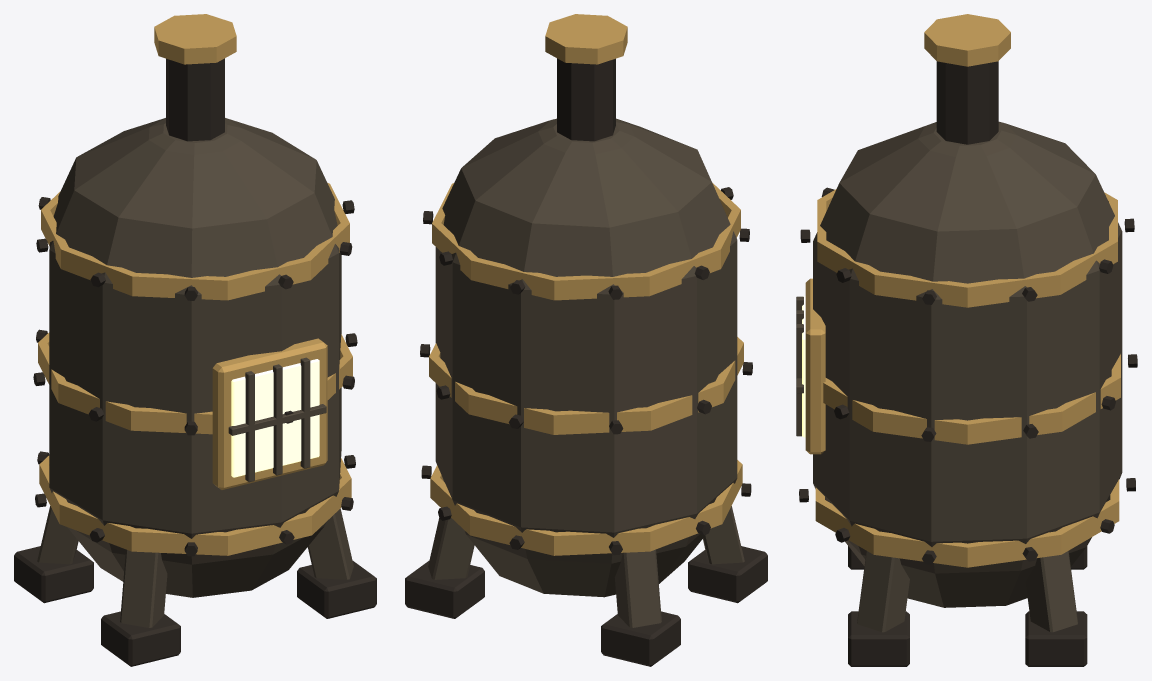
Rendered from reaction_vessel.glb.
The picture shows the model from 3 angles, left to right: view 1: azimuth 30°, elevation 25°; view 2: azimuth 150°, elevation 25°; view 3: azimuth 270°, elevation 25°; orthographic projection.
Visible parts, largest first — view 1: Faceted_vessel, Band_002, Band, Inspection_frame, Inspection_glow, Band_001, Chimney, Chimney_cap, Leg, Leg_foot_002, Leg_foot, Leg_foot_001 (+6 smaller); view 2: Faceted_vessel, Band_002, Band, Band_001, Chimney, Chimney_cap, Leg_foot, Leg_foot_002, Leg_002, Leg_foot_003, Leg_003, Leg; view 3: Faceted_vessel, Band_002, Band, Band_001, Chimney, Chimney_cap, Leg_001, Leg_003, Inspection_frame, Leg_foot_003, Leg_foot_001, Inspection_bar_002 (+1 smaller).
Part boxes in pixels (x1,y1,x2,y2): Faceted_vessel: (49, 118, 341, 597); Band_002: (41, 183, 349, 300); Band: (39, 455, 351, 555); Inspection_frame: (212, 338, 327, 489); Inspection_glow: (231, 359, 319, 477); Band_001: (38, 332, 352, 434); Chimney: (166, 58, 224, 141); Chimney_cap: (154, 14, 236, 64); Leg: (120, 549, 167, 627); Leg_foot_002: (14, 546, 93, 603); Leg_foot: (101, 611, 180, 666); Leg_foot_001: (297, 561, 376, 618); Faceted_vessel: (435, 118, 737, 597); Band_002: (432, 183, 740, 300); Band: (430, 460, 742, 555); Band_001: (429, 337, 743, 434); Chimney: (557, 58, 615, 141); Chimney_cap: (545, 14, 627, 64); Leg_foot: (688, 546, 767, 603); Leg_foot_002: (601, 611, 680, 666); Leg_002: (614, 549, 661, 627); Leg_foot_003: (405, 561, 484, 618); Leg_003: (428, 518, 474, 579); Leg: (703, 506, 744, 564); Faceted_vessel: (813, 121, 1122, 607); Band_002: (817, 189, 1117, 307); Band: (815, 479, 1119, 567); Band_001: (823, 354, 1120, 444); Chimney: (936, 61, 998, 144); Chimney_cap: (924, 14, 1010, 66); Leg_001: (857, 551, 909, 632); Leg_003: (1025, 551, 1077, 632); Inspection_frame: (805, 278, 825, 454); Leg_foot_003: (1025, 611, 1087, 666); Leg_foot_001: (848, 611, 909, 666); Inspection_bar_002: (796, 324, 803, 436).
Size of the model in its own units: 1.51 by 2.86 by 1.54.
